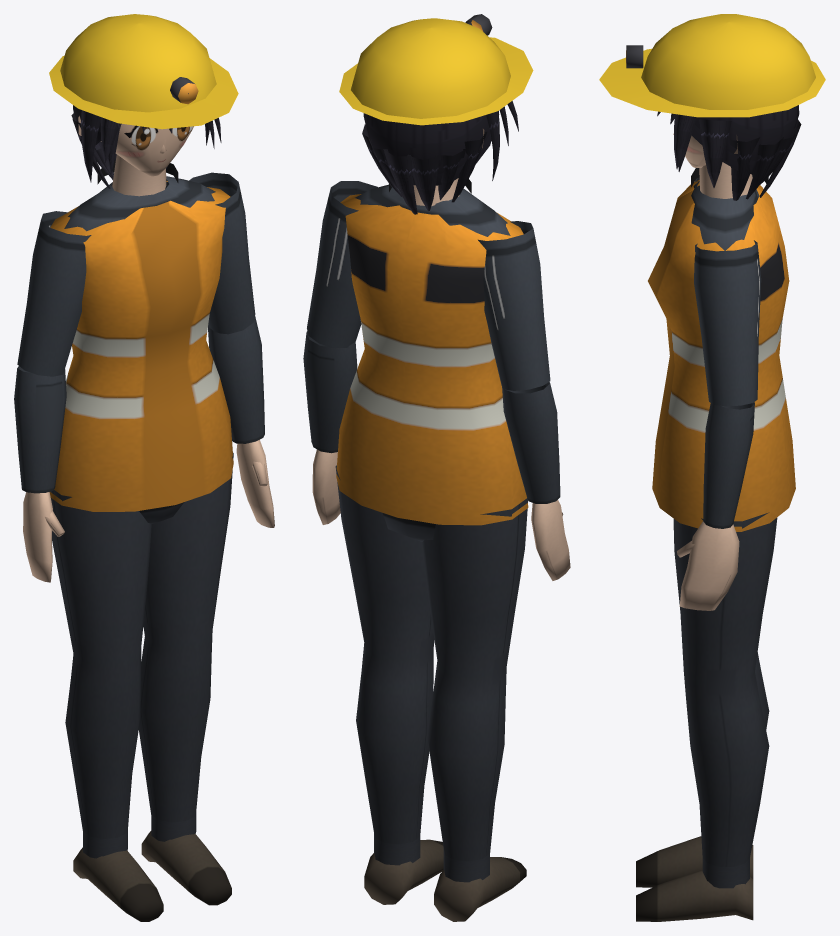
The model's file is NPC_Rin.fbx.
The picture shows the model from 3 angles, left to right: view 1: azimuth 30°, elevation 25°; view 2: azimuth 150°, elevation 25°; view 3: azimuth 270°, elevation 25°; orthographic projection. The views are drawn at different scales.
Visible parts, largest first — view 1: Rin_Body, Rin_Head; view 2: Rin_Body, Rin_Head; view 3: Rin_Body, Rin_Head.
Boxes of the visible parts, bbox=[...] form: Rin_Body: bbox=[14, 154, 274, 921]; Rin_Head: bbox=[49, 14, 238, 188]; Rin_Body: bbox=[303, 178, 570, 921]; Rin_Head: bbox=[339, 14, 533, 214]; Rin_Body: bbox=[636, 162, 795, 921]; Rin_Head: bbox=[599, 14, 825, 200].
Size of the model in its own units: 0.4913 by 1.67 by 0.3907.
